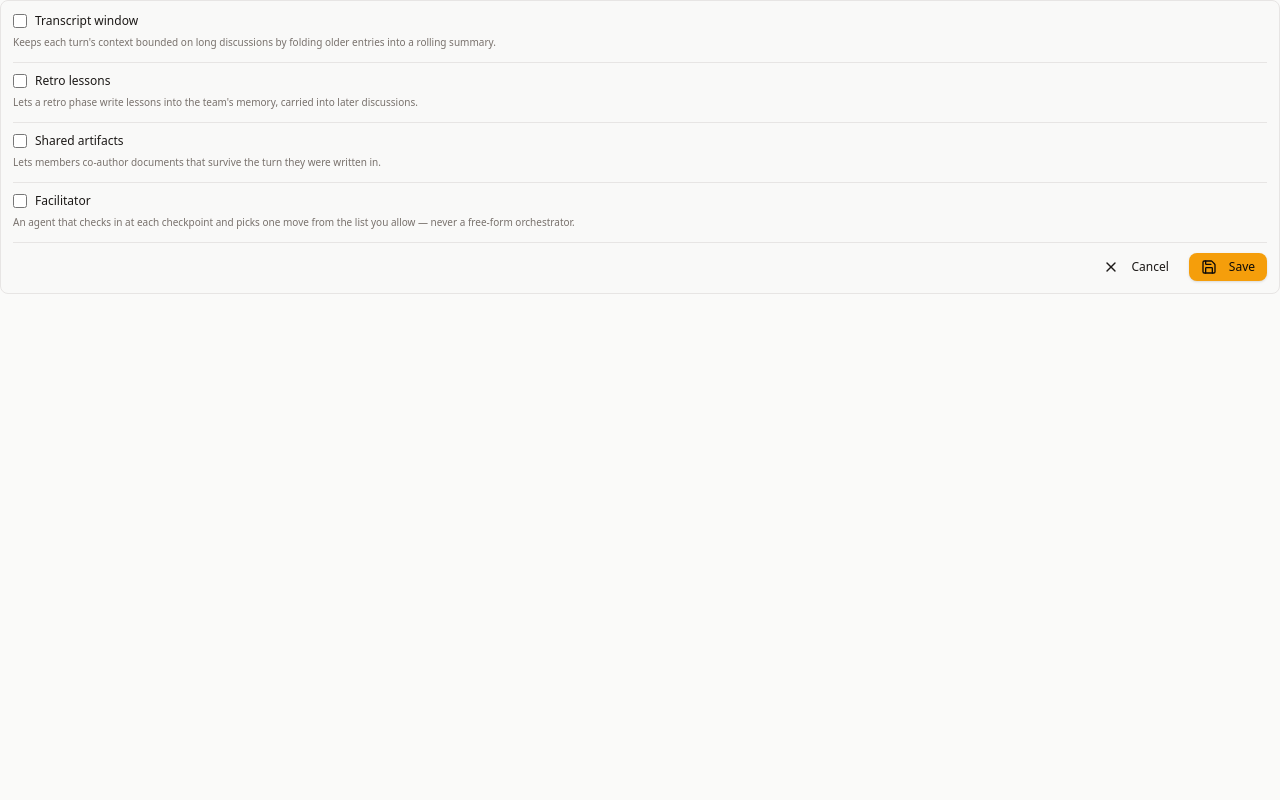
Scenario: GroupAdvancedEditor › blocks save when the facilitator has no agent
Click the checkbox with test id "adv-facilitator-enable": (20, 201) [13, 194, 27, 208]
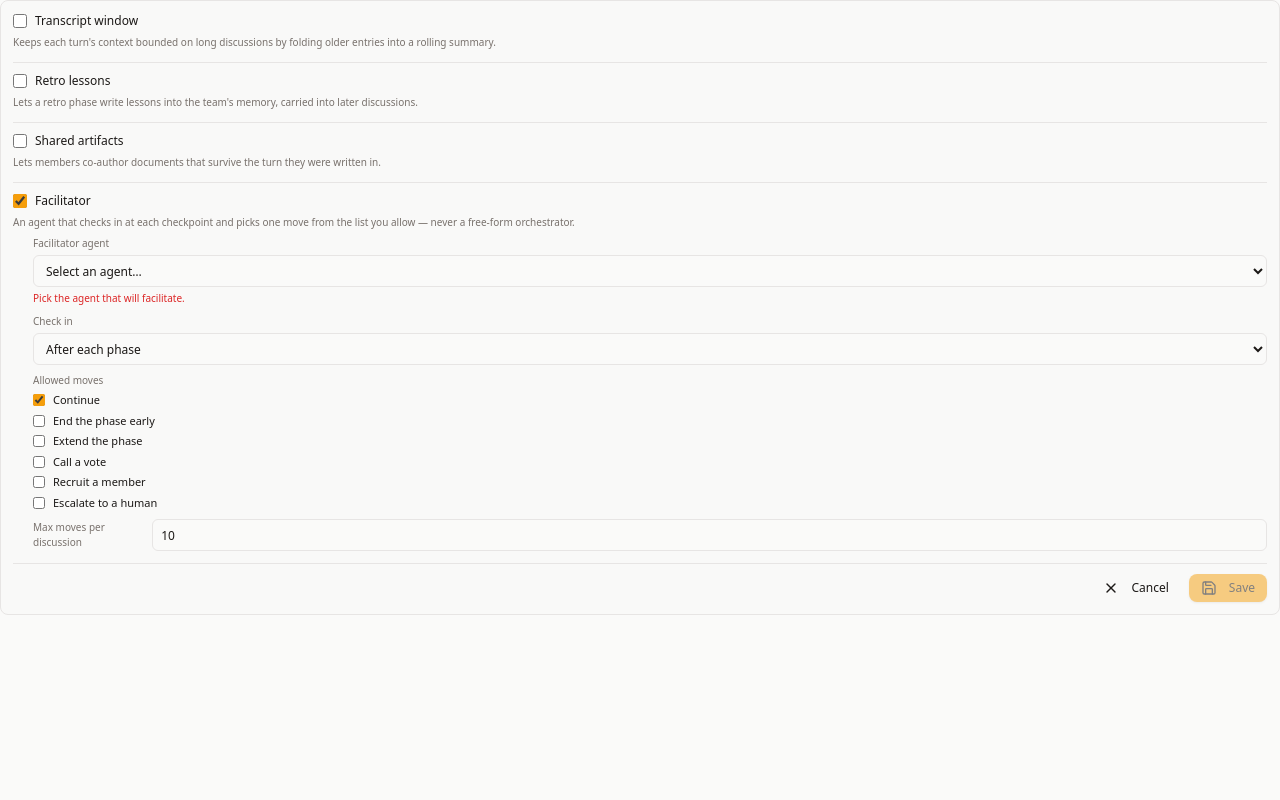
Result: the text "Pick the agent that will facilitate." is shown at [33, 291, 185, 305]
Result: the button with test id "adv-save" is disabled at [1189, 574, 1267, 602]
Select "Agent A" in the dropdown with test id "adv-facilitator-agent": (650, 271) [33, 255, 1267, 287]
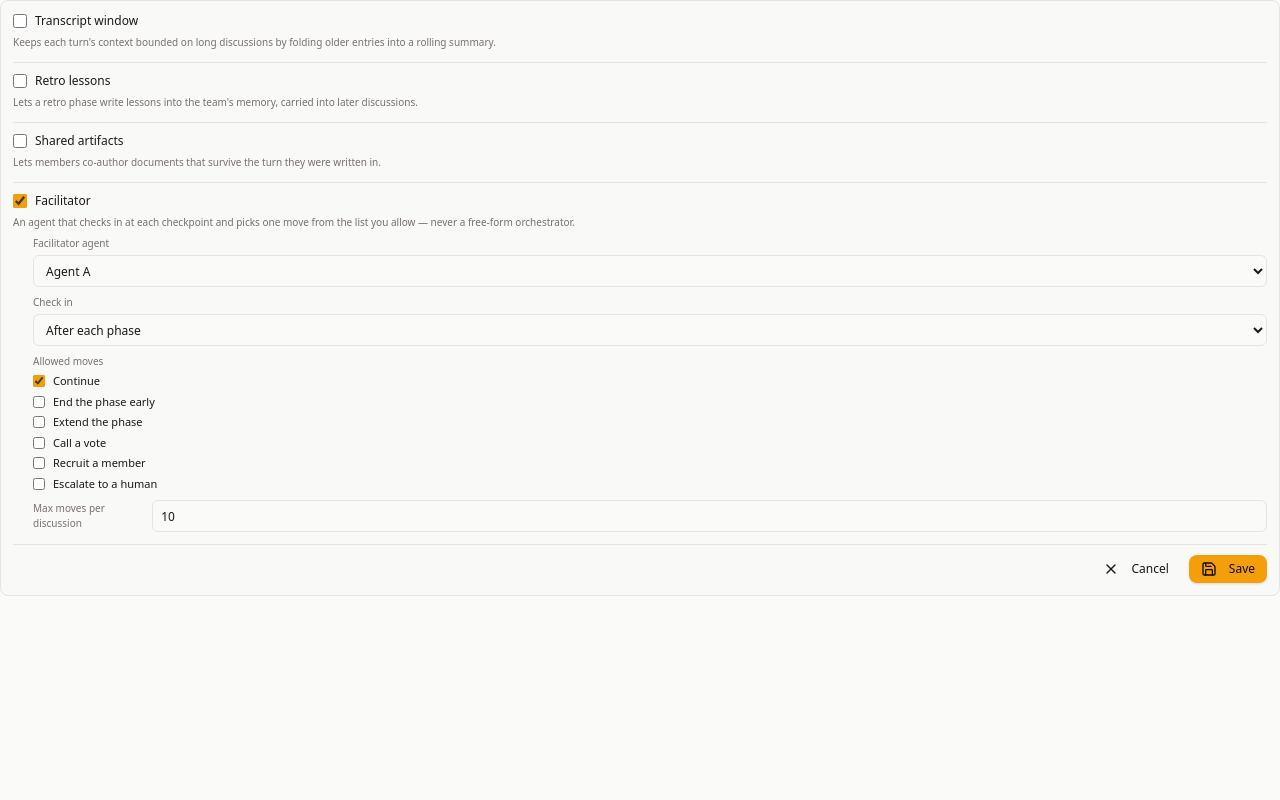
Result: the button with test id "adv-save" is enabled at [1189, 555, 1267, 583]
